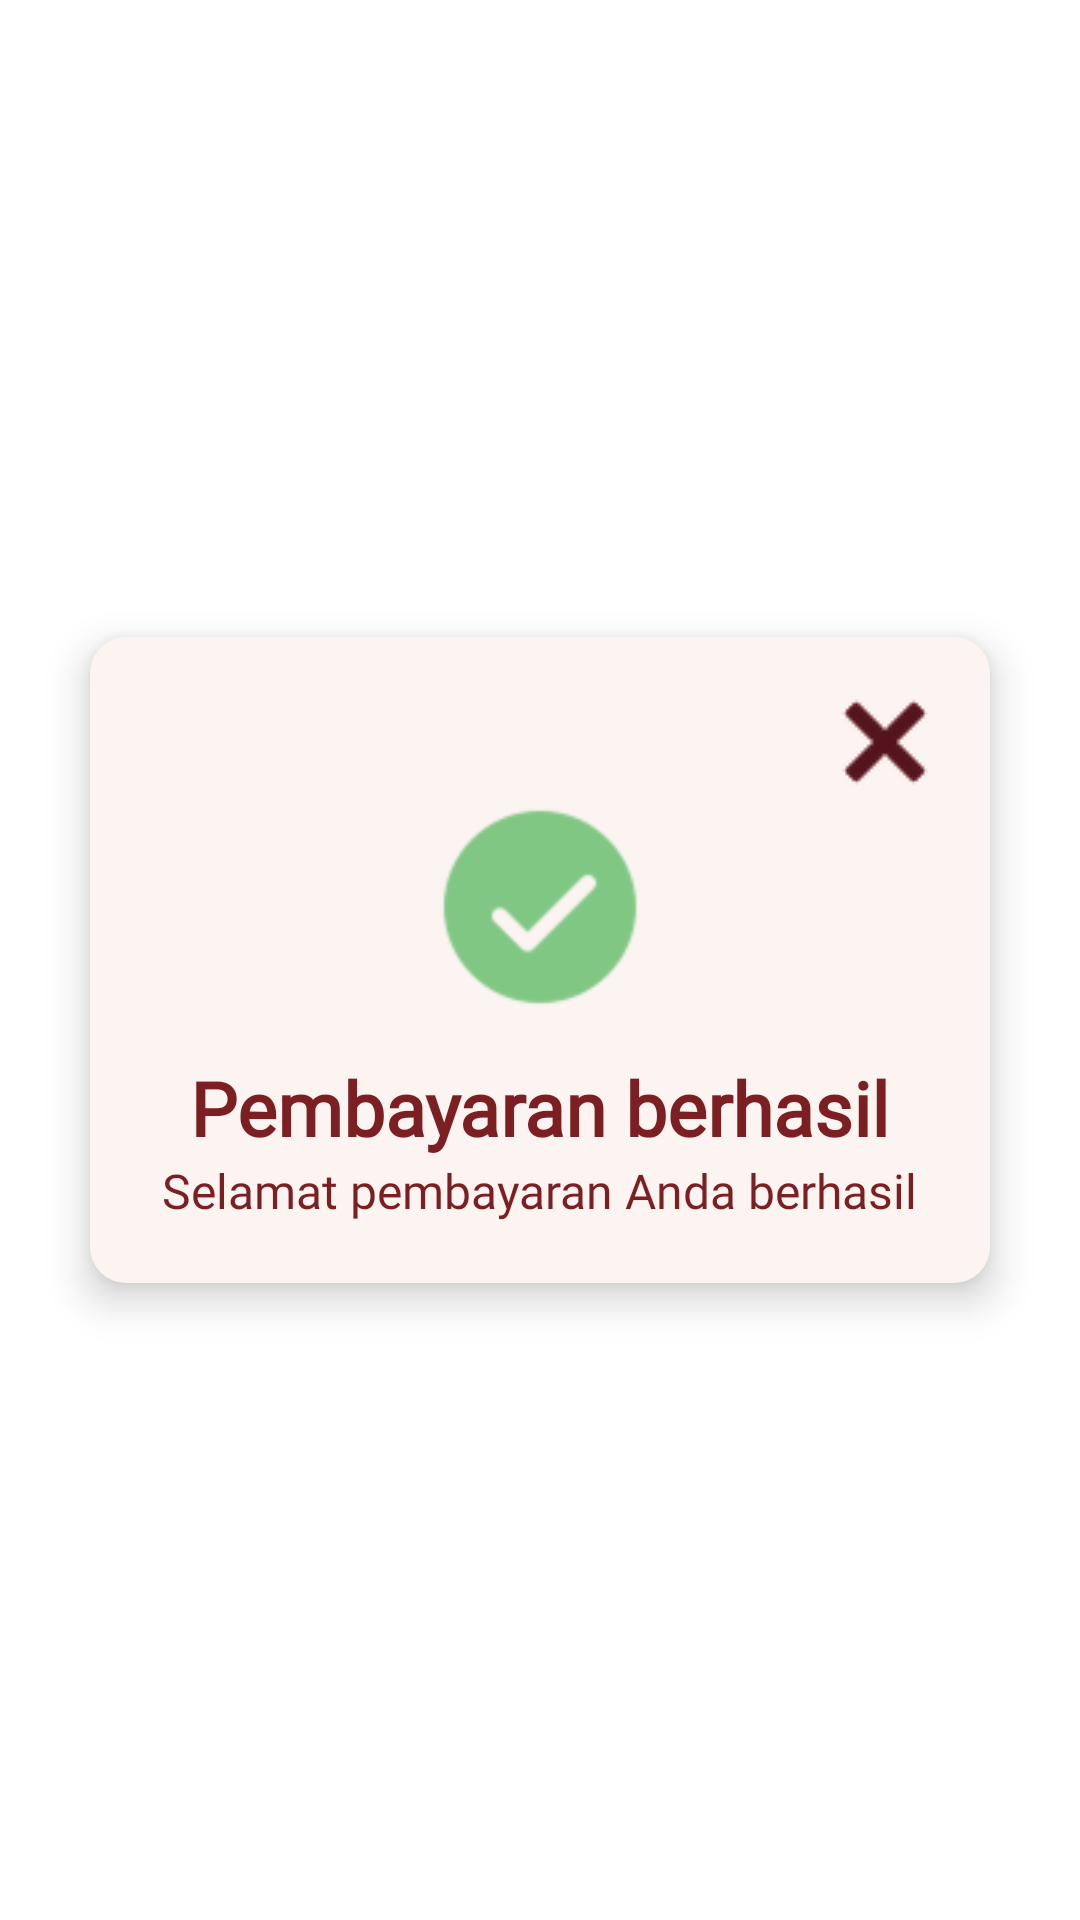

Named icons in this screenshot (1080 x 1920) and their bounding boxes, (x1, y1, x2, y2):
close: (843, 700, 927, 784)
